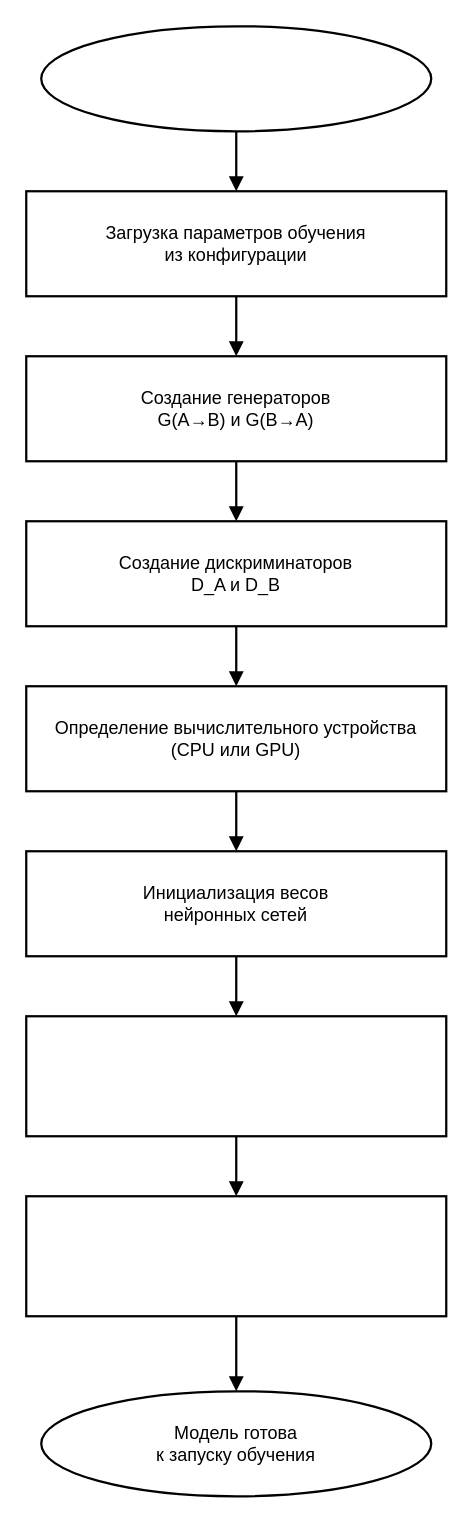
This 474x1524 diagram has some shape labels left out. Here are the shapes that lost their labels. From the top down, the centre of each, then its label:
At pixel 235 78: "Начало инициализации модели".
At pixel 235 1075: "Инициализация оптимизаторов для генераторов и дискриминаторов".
At pixel 235 1255: "Настройка функций потерь (GAN loss, cycle loss, identity loss)".
